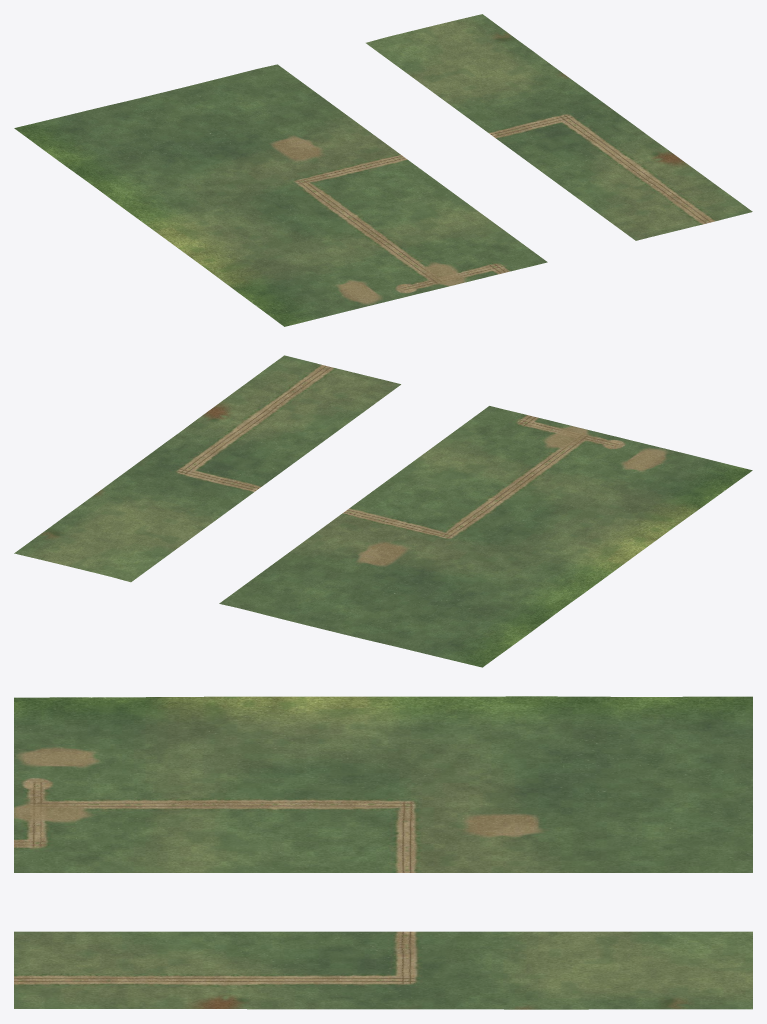
Rendered from chunk_0_3.glb.
The picture shows the model from 3 angles, top to bottom: view 1: azimuth 30°, elevation 25°; view 2: azimuth 150°, elevation 25°; view 3: azimuth 270°, elevation 25°; orthographic projection. The views are drawn at different scales.
Parts seen in each view (by area): view 1: chunk_0_3; view 2: chunk_0_3; view 3: chunk_0_3.
Part boxes in pixels (x1=…): chunk_0_3: x1=14, y1=14, x2=752, y2=326; chunk_0_3: x1=14, y1=355, x2=752, y2=667; chunk_0_3: x1=14, y1=696, x2=752, y2=1009.
Bounding box in the file's own units: 128 × 0.2466 × 128.
Materials: 1 (1 with a texture image).
